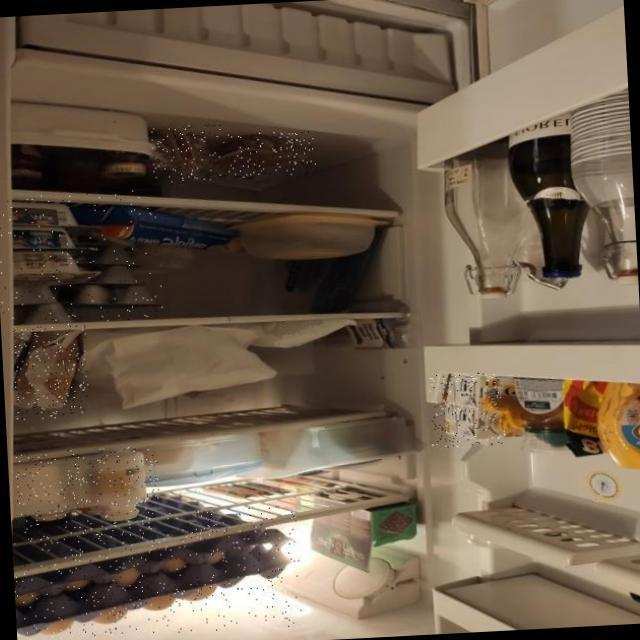Huevos: (10, 504, 303, 640)
Mantequilla: (428, 371, 505, 448)
Queso: (11, 322, 89, 420)
Yogur: (0, 187, 163, 325), (13, 445, 162, 544)
